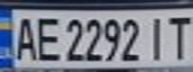2: (118, 15, 145, 62), (81, 15, 106, 63), (60, 15, 84, 63)
9: (103, 15, 124, 63)
A: (9, 12, 39, 62)
E: (33, 12, 63, 63)
I: (145, 14, 172, 62)
T: (163, 12, 193, 61)
